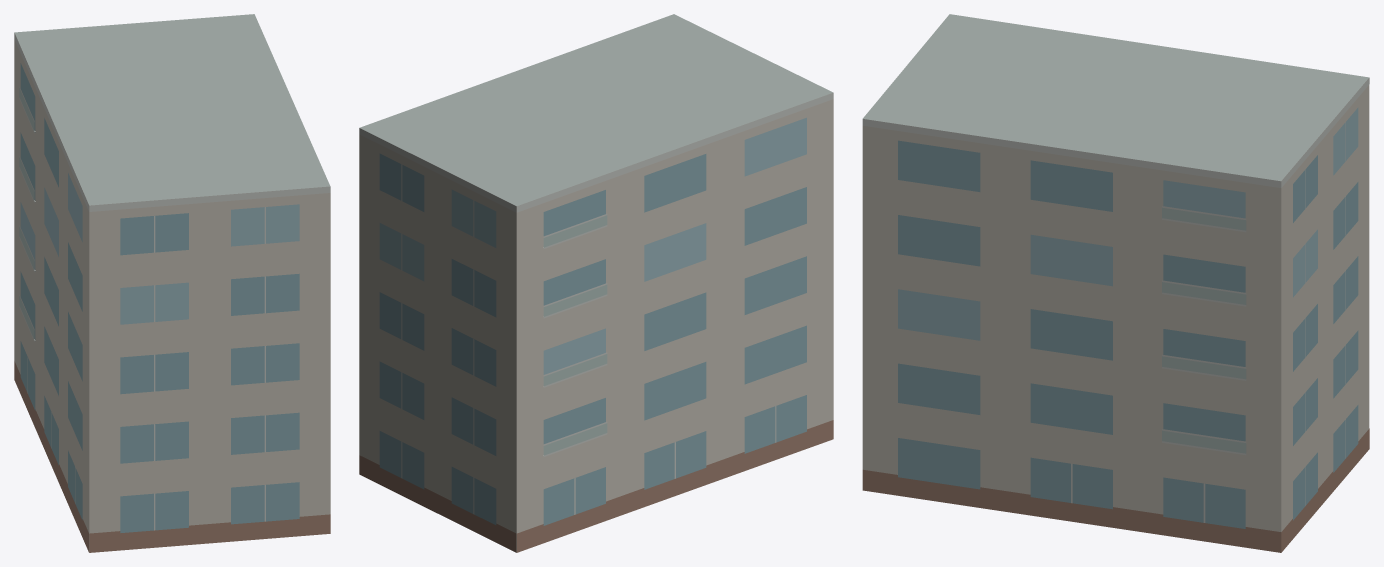
Rendered from survey-upis-33002105.glb.
The picture shows the model from 3 angles, left to right: view 1: azimuth 30°, elevation 25°; view 2: azimuth 150°, elevation 25°; view 3: azimuth 270°, elevation 25°; orthographic projection. The views are drawn at different scales.
Parts seen in each view (by area): view 1: survey-upis-33002105.tmp; view 2: survey-upis-33002105.tmp; view 3: survey-upis-33002105.tmp.
Boxes of the visible parts, x1,y1,x2,y2 form: survey-upis-33002105.tmp: [14, 14, 330, 552]; survey-upis-33002105.tmp: [359, 14, 833, 552]; survey-upis-33002105.tmp: [862, 14, 1369, 552].
Bounding box in the file's own units: 12.65 × 13.1 × 16.21.
